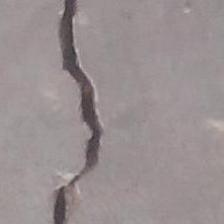Crack: (26, 1, 126, 224)
